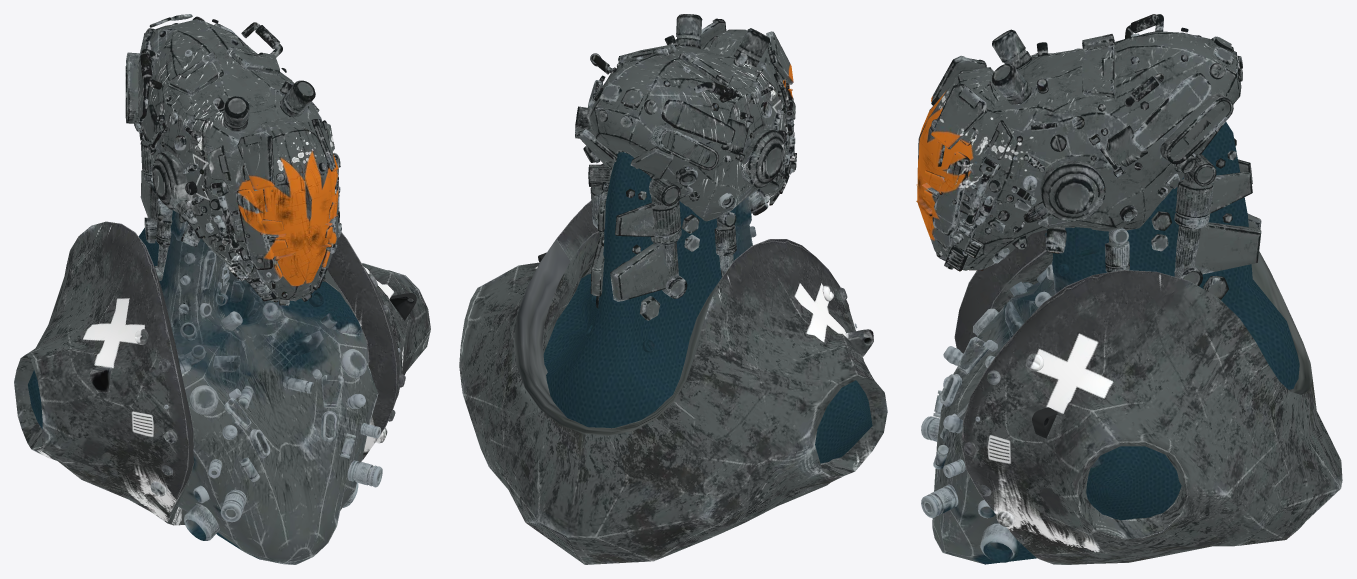
Rendered from bot-transformed.glb.
3 views of the same model, side by side, from view 1: azimuth 30°, elevation 25°; view 2: azimuth 150°, elevation 25°; view 3: azimuth 270°, elevation 25° (orthographic). The views are drawn at different scales.
Visible parts, largest first — view 1: PECHO_1, CABEZA_1, HOMBRO_1; view 2: HOMBRO_1, CABEZA_1, PECHO_1; view 3: HOMBRO_1, CABEZA_1, PECHO_1.
Part boxes in pixels (x1,y1,x2,y2): PECHO_1: (28,210,382,564); CABEZA_1: (125,14,341,305); HOMBRO_1: (14,221,430,525); HOMBRO_1: (459,200,887,564); CABEZA_1: (575,14,796,320); PECHO_1: (543,152,872,463); HOMBRO_1: (954,229,1342,564); CABEZA_1: (916,14,1261,299); PECHO_1: (921,122,1299,564).
Bounding box in the file's own units: 4.82 × 5.58 × 4.15.
Materials: 3 (3 with a texture image).
